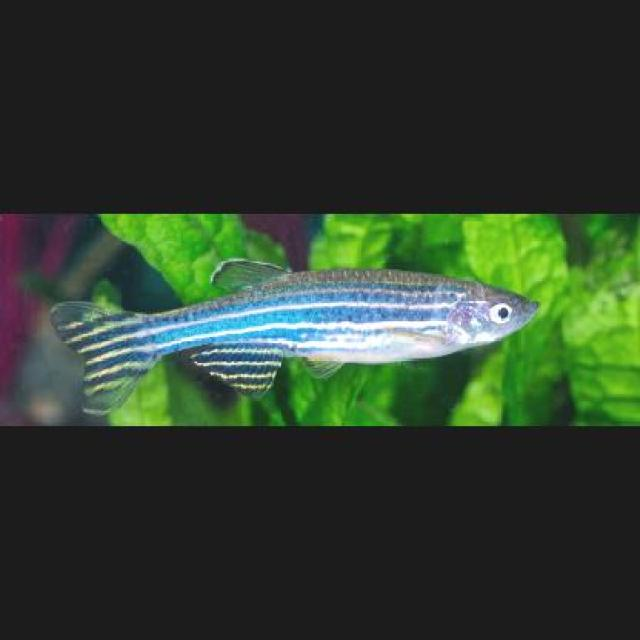ZebraFish: (50, 256, 538, 418)
